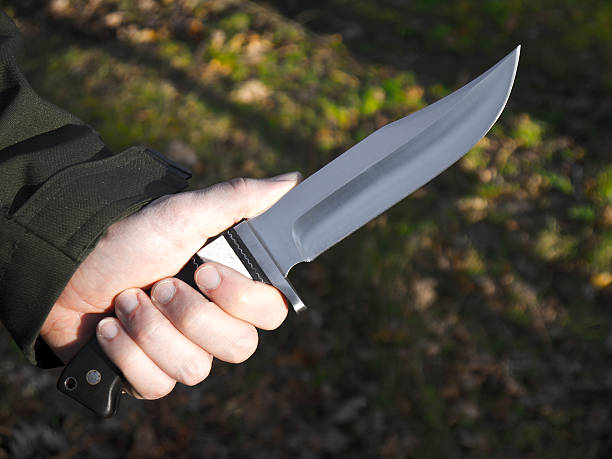knife: (52, 43, 524, 422)
